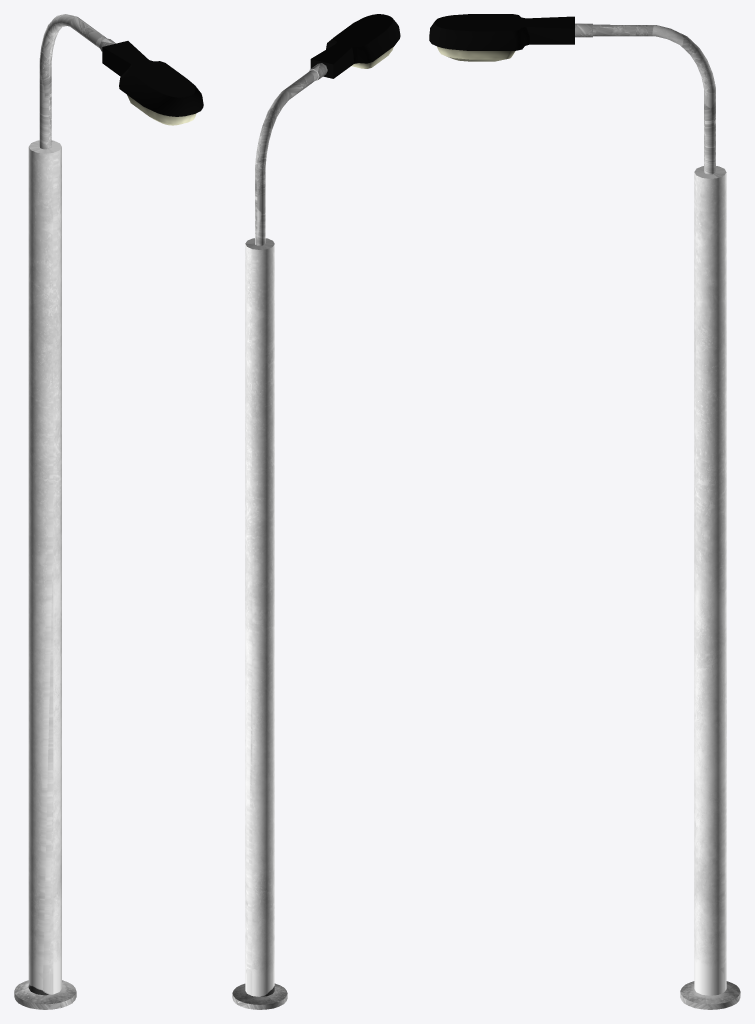
The model's file is farola.obj.
3 renders of one model, left to right at view 1: azimuth 30°, elevation 25°; view 2: azimuth 150°, elevation 25°; view 3: azimuth 270°, elevation 25°, orthographic. The views are drawn at different scales.
Visible parts, largest first — view 1: StreetLamp2_Short; view 2: StreetLamp2_Short; view 3: StreetLamp2_Short.
Part boxes in pixels (x1,y1,x2,y2): StreetLamp2_Short: [14, 14, 203, 1009]; StreetLamp2_Short: [232, 14, 400, 1009]; StreetLamp2_Short: [429, 14, 740, 1009].
Bounding box in the file's own units: 0.5736 × 10.2 × 2.95.
